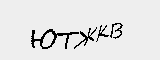В: (108, 19, 127, 43)
Ж: (75, 24, 98, 50)
К: (94, 22, 110, 45)
Т: (54, 27, 78, 52)
Ю: (30, 27, 56, 51)
